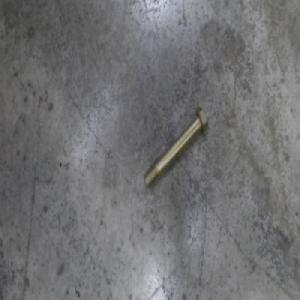Bolt: (143, 104, 209, 190)
